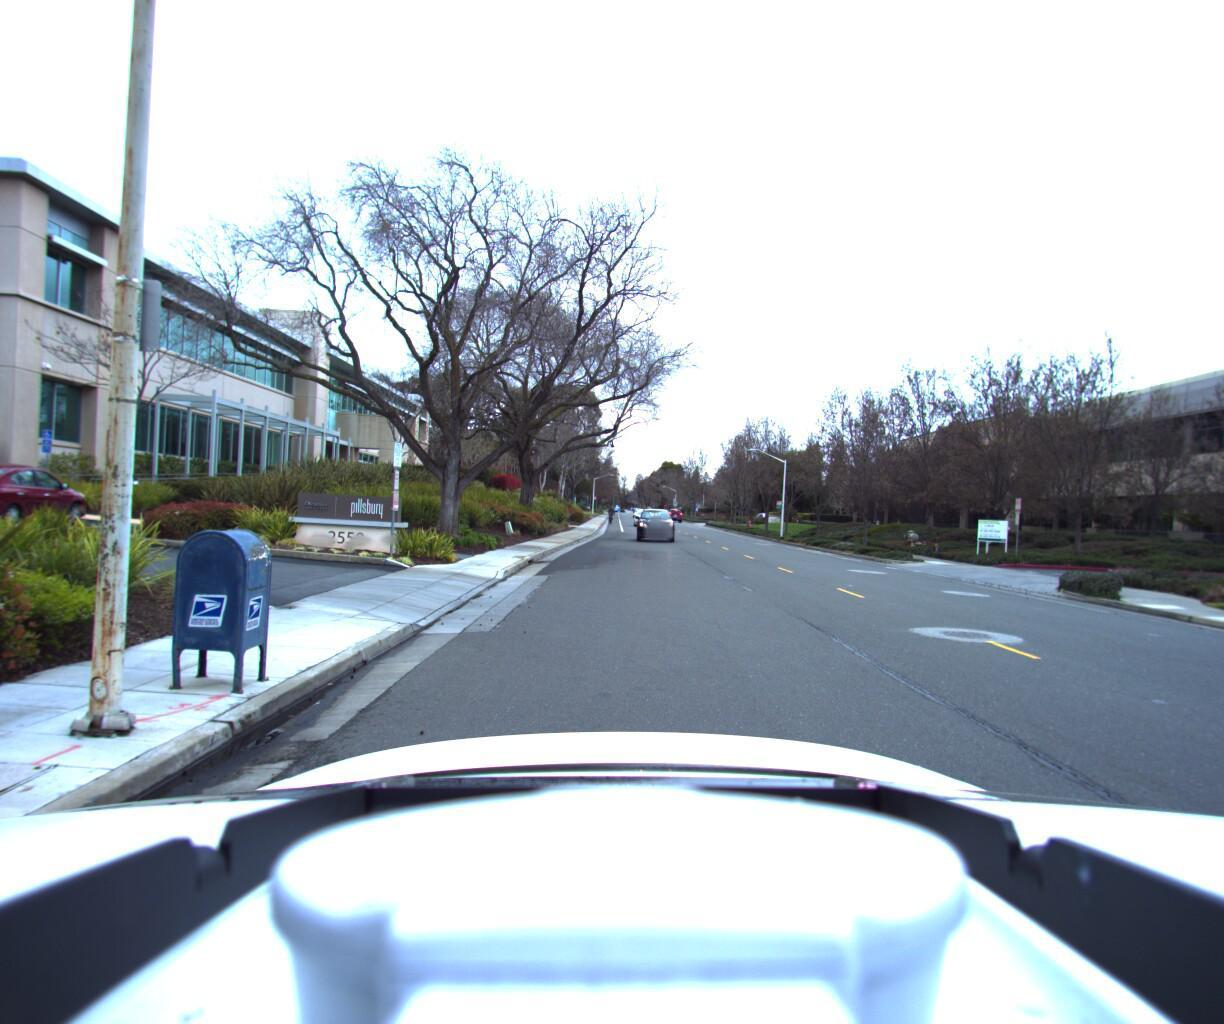bicycle: (606, 508, 617, 528)
car: (635, 514, 676, 550)
